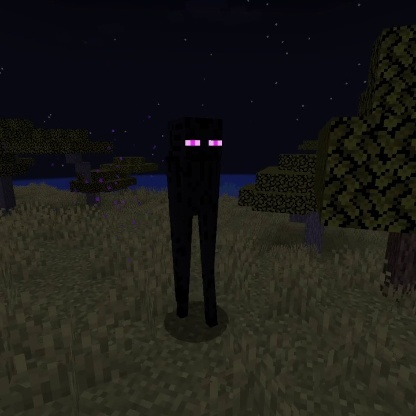enderman: (161, 114, 230, 332)
